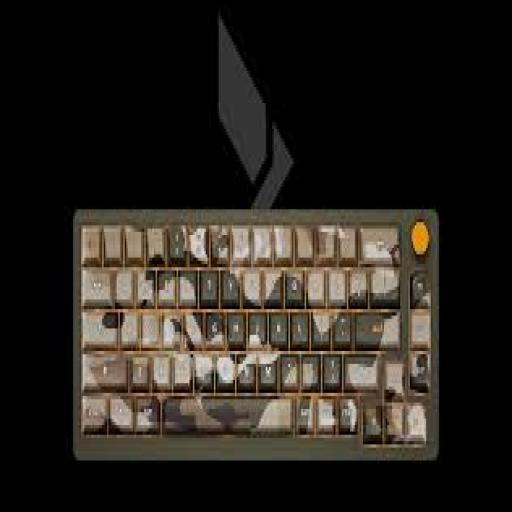keyboard: (75, 209, 437, 457)
